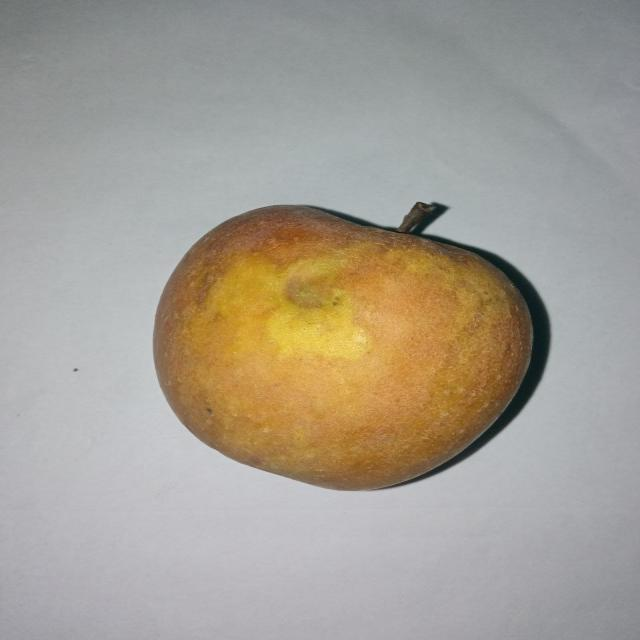fresh_apple: (151, 200, 533, 488)
